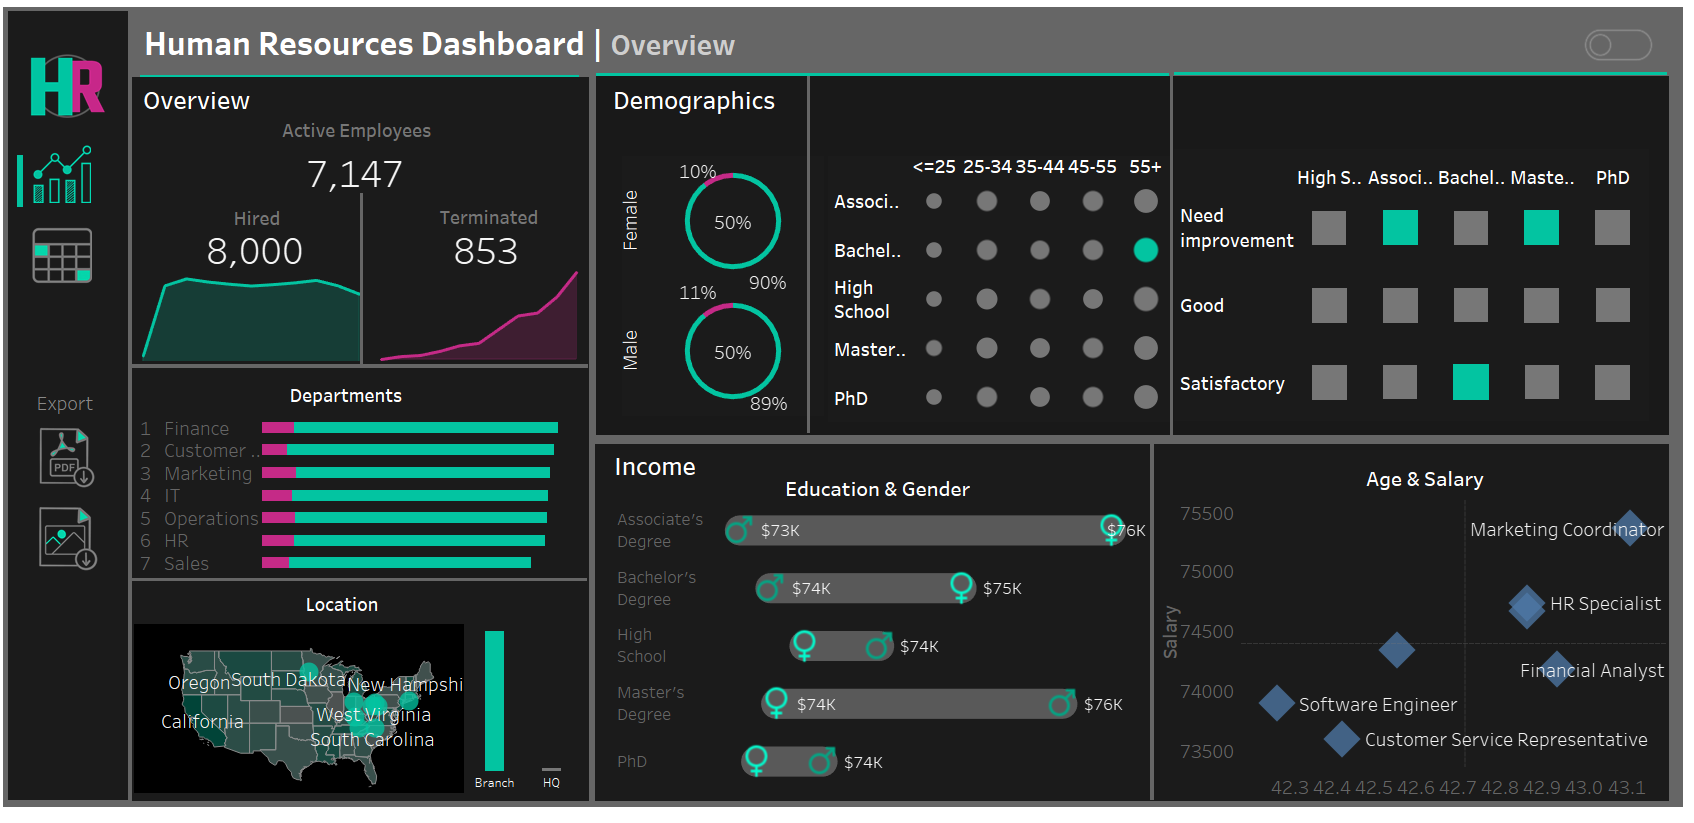

The dashboard page shown, as its layout file describes it:
{"tool":"tableau","page":{"name":"Dashboard 1","canvas":[1680,800],"ordinal":0},"visuals":[{"type":"text","box":[137,2,666,66]},{"type":"filter","title":"Gender","param":"[federated.1vnj1su1iyy6fi167lb641wne02r].[none:Gender:nk]","box":[872,6,168,57]},{"type":"filter","title":"Department","param":"[federated.1vnj1su1iyy6fi167lb641wne02r].[none:Calculation_1742611594558267405:n","box":[1040,6,168,57]},{"type":"filter","title":"Map States","param":"[federated.1vnj1su1iyy6fi167lb641wne02r].[none:Calculation_1742611594508038150:n","box":[1208,6,168,57]},{"type":"filter","title":"Map States","param":"[federated.1vnj1su1iyy6fi167lb641wne02r].[none:State:nk]","box":[1376,6,168,57]},{"type":"dashboard-object","box":[1580,10,70,56]},{"type":"image","param":"Image/Logo.png","box":[25,46,80,65]},{"type":"blank","box":[1167,58,3,371]},{"type":"blank","box":[804,64,3,362]},{"type":"blank","box":[1171,65,493,3]},{"type":"blank","box":[593,66,573,3]},{"type":"blank","box":[137,68,439,2]},{"type":"text","box":[136,73,368,38]},{"type":"text","box":[606,73,174,38]},{"type":"text","box":[275,108,158,30]},{"type":"worksheet","title":"BAN Active","mark":"Automatic","box":[129,136,446,60]},{"type":"image","param":"Image/dashboard-summary-active.png","box":[21,138,76,58]},{"type":"worksheet","title":"Education Vs Performance","mark":"Square","rows":["performance"],"cols":["Education Level"],"box":[1171,142,475,272]},{"type":"blank","box":[14,148,6,52]},{"type":"worksheet","title":"Gender","mark":"Pie","rows":["Gender"],"cols":["Calculation_1742611594534408200","Calculation_1742611594534408200"],"box":[619,149,202,260]},{"type":"worksheet","title":"Age Vs Education","mark":"Circle","rows":["Education Level"],"cols":["Calculation_1742611594537721867"],"box":[825,149,344,266]},{"type":"blank","box":[357,186,3,173]},{"type":"text","box":[407,195,158,30]},{"type":"text","box":[175,196,158,30]},{"type":"dashboard-object","box":[26,218,67,60]},{"type":"worksheet","title":"BAN Terminated","mark":"Automatic","box":[381,222,203,42]},{"type":"worksheet","title":"BAN Hired","mark":"Automatic","box":[136,224,232,37]},{"type":"worksheet","title":"Terminated By Year ","mark":"Line","rows":["Calculation_1742611594502385665","Calculation_1742611594502385665"],"cols":["Terminated Date"],"box":[368,259,215,99]},{"type":"worksheet","title":"Hired By Year","mark":"Line","rows":["Calculation_1742611594502295552","Calculation_1742611594502295552"],"cols":["Hiring Date"],"box":[129,266,238,88]},{"type":"blank","box":[128,357,457,4]},{"type":"text","box":[264,373,158,30]},{"type":"text","box":[12,381,100,30]},{"type":"worksheet","title":"Department","mark":"Bar","rows":["Calculation_1742611594507329541","Department"],"cols":["Calculation_1742611594502295552"],"box":[131,409,439,158]},{"type":"dashboard-object","box":[18,419,86,62]},{"type":"blank","box":[1147,432,4,361]},{"type":"text","box":[607,441,133,35]},{"type":"text","box":[1359,452,155,38]},{"type":"text","box":[778,462,241,38]},{"type":"worksheet","title":"Age Vs Salary","mark":"Shape","rows":["salary"],"cols":["Calculation_1742611594536919050"],"box":[1154,493,509,299]},{"type":"worksheet","title":"Gender Vs Education Level","mark":"Automatic","rows":["Education Level"],"cols":["salary","salary"],"box":[608,494,536,289]},{"type":"dashboard-object","box":[22,498,80,66]},{"type":"blank","box":[127,571,457,3]},{"type":"text","box":[260,582,158,30]},{"type":"worksheet","title":"Map States","mark":"Automatic","box":[131,617,330,169]},{"type":"worksheet","title":"Location","mark":"Automatic","rows":["Calculation_1742611594502295552"],"cols":["Calculation_1742611594508038150"],"box":[463,617,114,168]}]}

Visuals, with their boxes on the page's 1680x800 design canvas (x1, y1, x2, y2). These are canvas units, not pixel positions in the 1694x823 screenshot, which may show the page scaled, cropped or inside an application window:
text: (left=137, top=2, right=803, bottom=68)
"Gender" filter: (left=872, top=6, right=1040, bottom=63)
"Department" filter: (left=1040, top=6, right=1208, bottom=63)
"Map States" filter: (left=1208, top=6, right=1376, bottom=63)
"Map States" filter: (left=1376, top=6, right=1544, bottom=63)
dashboard-object: (left=1580, top=10, right=1650, bottom=66)
image: (left=25, top=46, right=105, bottom=111)
blank: (left=1167, top=58, right=1170, bottom=429)
blank: (left=804, top=64, right=807, bottom=426)
blank: (left=1171, top=65, right=1664, bottom=68)
blank: (left=593, top=66, right=1166, bottom=69)
blank: (left=137, top=68, right=576, bottom=70)
text: (left=136, top=73, right=504, bottom=111)
text: (left=606, top=73, right=780, bottom=111)
text: (left=275, top=108, right=433, bottom=138)
"BAN Active" worksheet: (left=129, top=136, right=575, bottom=196)
image: (left=21, top=138, right=97, bottom=196)
"Education Vs Performance" worksheet (Square marks): (left=1171, top=142, right=1646, bottom=414)
blank: (left=14, top=148, right=20, bottom=200)
"Gender" worksheet (Pie marks): (left=619, top=149, right=821, bottom=409)
"Age Vs Education" worksheet (Circle marks): (left=825, top=149, right=1169, bottom=415)
blank: (left=357, top=186, right=360, bottom=359)
text: (left=407, top=195, right=565, bottom=225)
text: (left=175, top=196, right=333, bottom=226)
dashboard-object: (left=26, top=218, right=93, bottom=278)
"BAN Terminated" worksheet: (left=381, top=222, right=584, bottom=264)
"BAN Hired" worksheet: (left=136, top=224, right=368, bottom=261)
"Terminated By Year " worksheet (Line marks): (left=368, top=259, right=583, bottom=358)
"Hired By Year" worksheet (Line marks): (left=129, top=266, right=367, bottom=354)
blank: (left=128, top=357, right=585, bottom=361)
text: (left=264, top=373, right=422, bottom=403)
text: (left=12, top=381, right=112, bottom=411)
"Department" worksheet (Bar marks): (left=131, top=409, right=570, bottom=567)
dashboard-object: (left=18, top=419, right=104, bottom=481)
blank: (left=1147, top=432, right=1151, bottom=793)
text: (left=607, top=441, right=740, bottom=476)
text: (left=1359, top=452, right=1514, bottom=490)
text: (left=778, top=462, right=1019, bottom=500)
"Age Vs Salary" worksheet (Shape marks): (left=1154, top=493, right=1663, bottom=792)
"Gender Vs Education Level" worksheet: (left=608, top=494, right=1144, bottom=783)
dashboard-object: (left=22, top=498, right=102, bottom=564)
blank: (left=127, top=571, right=584, bottom=574)
text: (left=260, top=582, right=418, bottom=612)
"Map States" worksheet: (left=131, top=617, right=461, bottom=786)
"Location" worksheet: (left=463, top=617, right=577, bottom=785)
